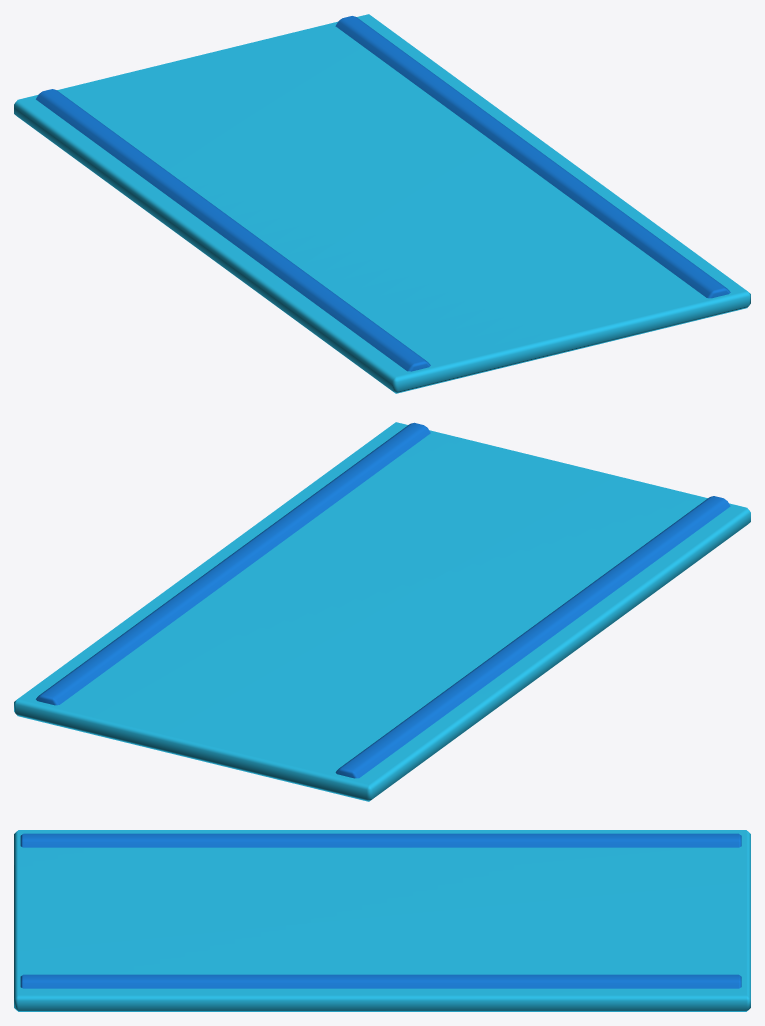
Rendered from obstacle_17_001.fbx.
3 views of the same model, one above another, from view 1: azimuth 30°, elevation 25°; view 2: azimuth 150°, elevation 25°; view 3: azimuth 270°, elevation 25° (orthographic). The views are drawn at different scales.
Visible parts, largest first — view 1: obstacle_17_001; view 2: obstacle_17_001; view 3: obstacle_17_001.
Part boxes in pixels (x1,y1,x2,y2): obstacle_17_001: (14,14,750,393); obstacle_17_001: (14,422,750,801); obstacle_17_001: (14,830,750,1011).
Bounding box in the file's own units: 406 × 749 × 25.63.
